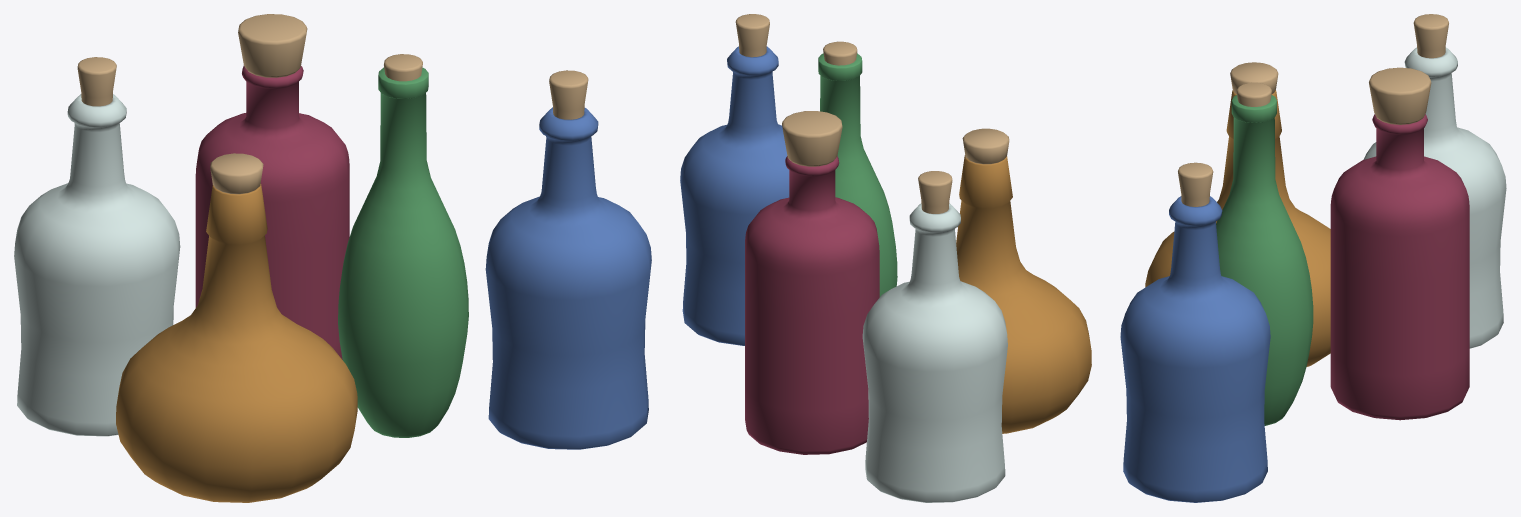
File: Bottle_set_4.glb
3 renders of one model, left to right at view 1: azimuth 30°, elevation 25°; view 2: azimuth 150°, elevation 25°; view 3: azimuth 270°, elevation 25°, orthographic. The views are drawn at different scales.
Parts seen in each view (by area): view 1: Bottle_set_4.005, Bottle_set_4.006, Bottle_set_4.009, Bottle_set_4, Bottle_set_4.007, Bottle_set_4.003, Bottle_set_4.001, Bottle_set_4.002, Bottle_set_4.008, Bottle_set_4.004; view 2: Bottle_set_4.007, Bottle_set_4.009, Bottle_set_4.006, Bottle_set_4.005, Bottle_set_4, Bottle_set_4.003, Bottle_set_4.001, Bottle_set_4.002, Bottle_set_4.008, Bottle_set_4.004; view 3: Bottle_set_4.007, Bottle_set_4.006, Bottle_set_4, Bottle_set_4.009, Bottle_set_4.005, Bottle_set_4.003, Bottle_set_4.008, Bottle_set_4.002, Bottle_set_4.001, Bottle_set_4.004.
Part boxes in pixels (bbox=[...]): Bottle_set_4.005: bbox=[116, 184, 357, 502]; Bottle_set_4.006: bbox=[485, 107, 651, 449]; Bottle_set_4.009: bbox=[14, 94, 180, 436]; Bottle_set_4: bbox=[338, 67, 468, 437]; Bottle_set_4.007: bbox=[195, 65, 349, 359]; Bottle_set_4.003: bbox=[238, 14, 307, 77]; Bottle_set_4.001: bbox=[210, 153, 263, 194]; Bottle_set_4.002: bbox=[549, 70, 588, 119]; Bottle_set_4.008: bbox=[77, 57, 116, 106]; Bottle_set_4.004: bbox=[384, 54, 422, 81]; Bottle_set_4.007: bbox=[745, 156, 879, 454]; Bottle_set_4.009: bbox=[862, 203, 1007, 502]; Bottle_set_4.006: bbox=[680, 46, 789, 345]; Bottle_set_4.005: bbox=[956, 155, 1091, 433]; Bottle_set_4: bbox=[818, 53, 897, 296]; Bottle_set_4.003: bbox=[782, 111, 842, 166]; Bottle_set_4.001: bbox=[962, 128, 1009, 164]; Bottle_set_4.002: bbox=[735, 14, 769, 57]; Bottle_set_4.008: bbox=[918, 171, 952, 213]; Bottle_set_4.004: bbox=[823, 41, 857, 65]; Bottle_set_4.007: bbox=[1330, 114, 1469, 420]; Bottle_set_4.006: bbox=[1120, 196, 1270, 502]; Bottle_set_4: bbox=[1216, 95, 1313, 425]; Bottle_set_4.009: bbox=[1363, 47, 1506, 348]; Bottle_set_4.005: bbox=[1145, 90, 1330, 366]; Bottle_set_4.003: bbox=[1369, 67, 1431, 124]; Bottle_set_4.008: bbox=[1413, 14, 1448, 58]; Bottle_set_4.002: bbox=[1178, 162, 1213, 206]; Bottle_set_4.001: bbox=[1230, 62, 1278, 94]; Bottle_set_4.004: bbox=[1236, 82, 1271, 106].
Size of the model in its own units: 0.4785 by 0.3431 by 0.368.
